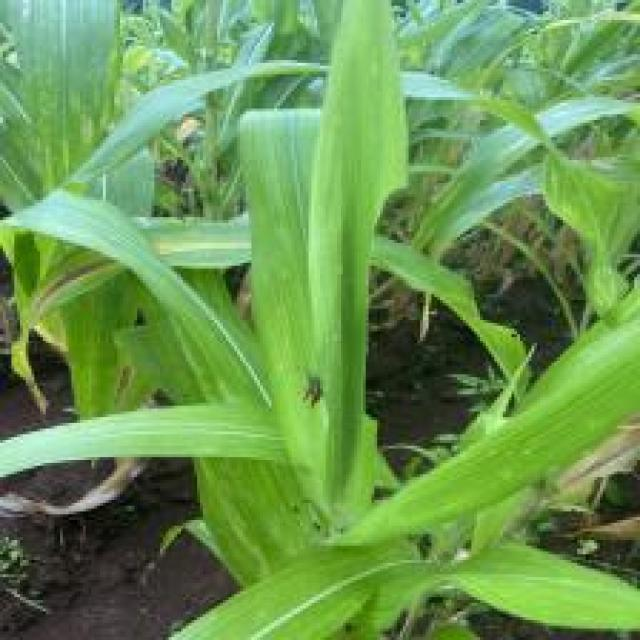Plaga: (300, 365, 337, 428)
